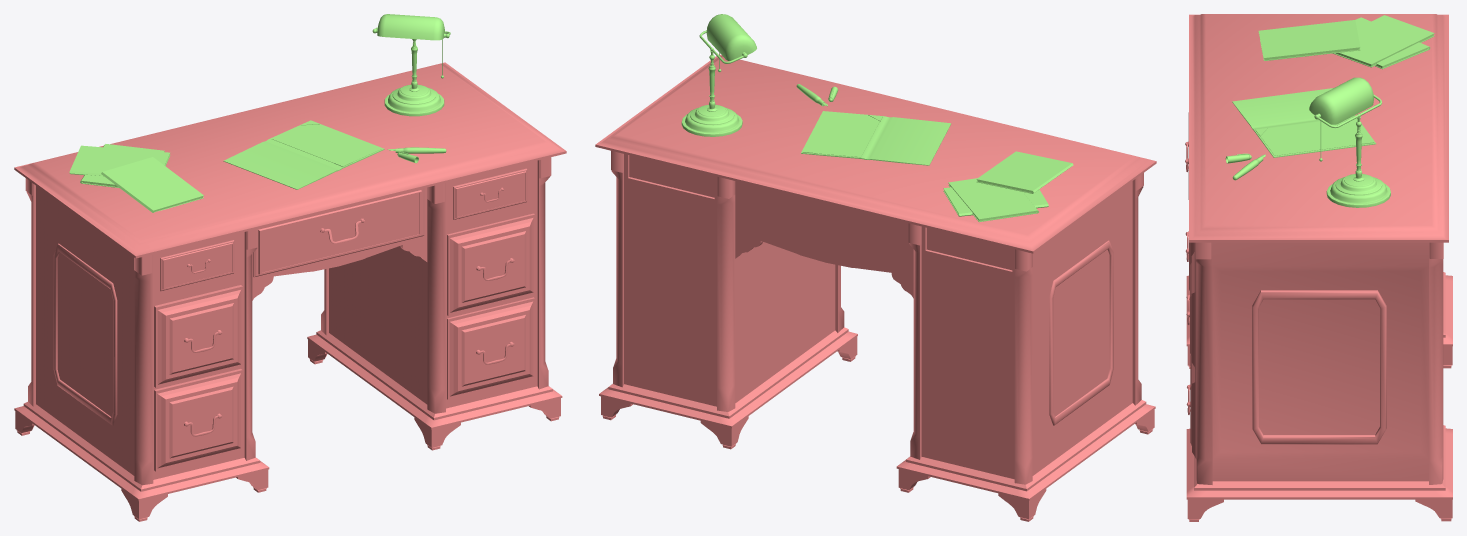
The model's file is desk.dae.
The picture shows the model from 3 angles, left to right: view 1: azimuth 30°, elevation 25°; view 2: azimuth 150°, elevation 25°; view 3: azimuth 270°, elevation 25°; orthographic projection. The views are drawn at different scales.
Visible parts, largest first — view 1: Box002, Cylinder001; view 2: Box002, Cylinder001; view 3: Box002, Cylinder001.
Part boxes in pixels (left/top/right/bottom): Box002: left=14, top=62, right=566, bottom=521; Cylinder001: left=69, top=14, right=450, bottom=212; Box002: left=595, top=54, right=1156, bottom=521; Cylinder001: left=681, top=14, right=1073, bottom=222; Box002: left=1185, top=14, right=1452, bottom=521; Cylinder001: left=1225, top=15, right=1434, bottom=207.
Bounding box in the file's own units: 2 × 1.64 × 1.
